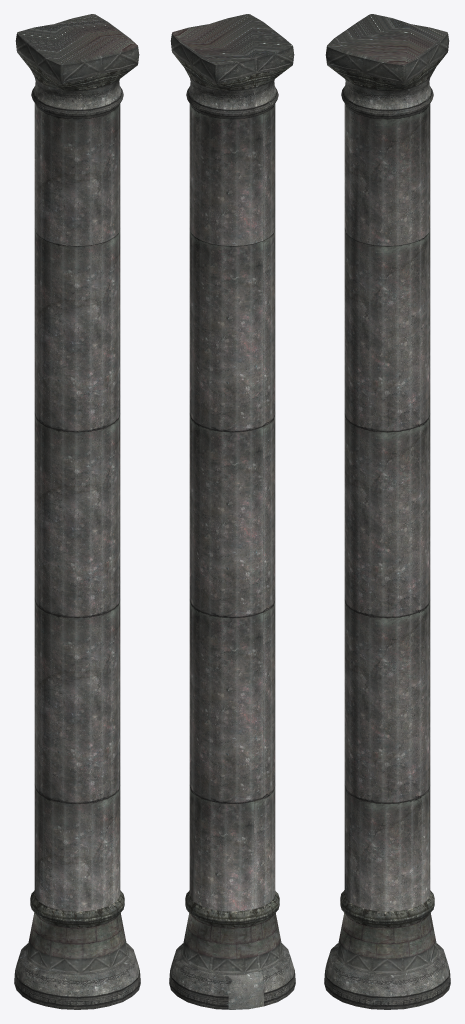
File: columnbig.fbx
3 renders of one model, left to right at view 1: azimuth 30°, elevation 25°; view 2: azimuth 210°, elevation 25°; view 3: azimuth 330°, elevation 25°, orthographic.
Parts seen in each view (by area): view 1: Mesh Object; view 2: Mesh Object; view 3: Mesh Object.
Part boxes in pixels (bbox=[...]): Mesh Object: bbox=[14, 14, 140, 1009]; Mesh Object: bbox=[169, 14, 295, 1009]; Mesh Object: bbox=[324, 14, 450, 1009].
Bounding box in the file's own units: 1.48 × 12.19 × 1.48.
